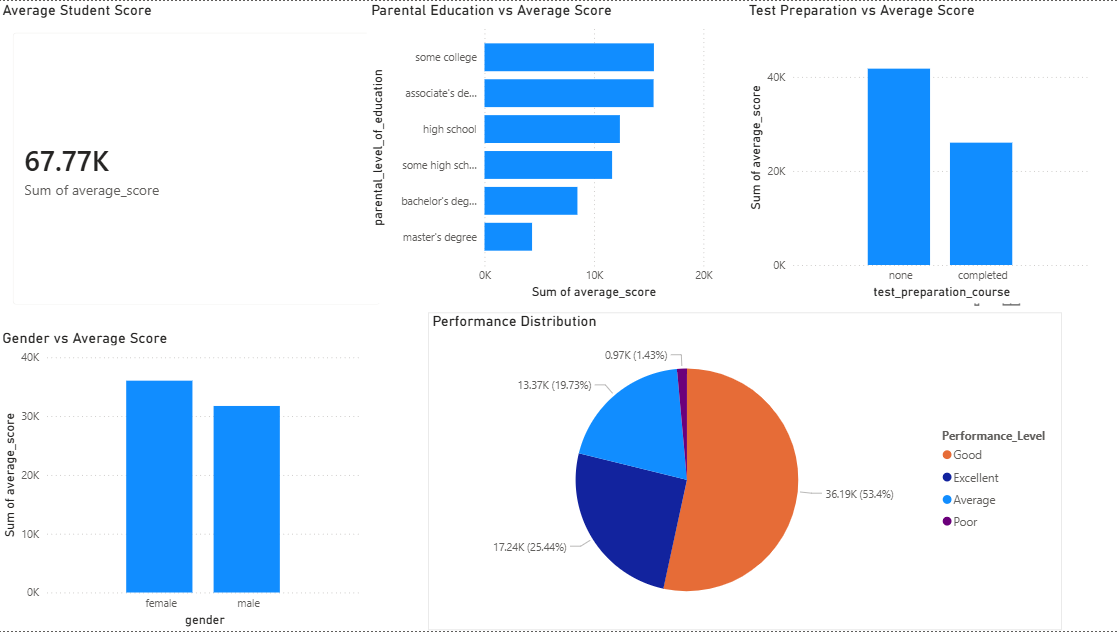

This screenshot's page, from the dashboard's own definition file:
{"tool":"powerbi","page":{"name":"Page 1","canvas":[1280,720],"ordinal":0},"visuals":[{"type":"clusteredColumnChart","title":"Gender vs Average Score","fields":{"Category":["cleaned_student_data.gender"],"Y":["Sum(cleaned_student_data.average_score)"]},"box":[0,374.3,421.4,345.7],"z":0},{"type":"cardVisual","title":"Average Student Score","fields":{"Data":["Sum(cleaned_student_data.average_score)"]},"box":[0,0,454.3,364.3],"z":1},{"type":"pieChart","title":"Performance Distribution","fields":{"Category":["cleaned_student_data.Performance_Level"],"Y":["Sum(cleaned_student_data.average_score)"]},"box":[491.4,355.7,724.3,364.3],"z":2},{"type":"clusteredBarChart","title":"Parental Education vs Average Score","fields":{"Category":["cleaned_student_data.parental_level_of_education"],"Y":["Sum(cleaned_student_data.average_score)"]},"box":[421.4,0,400,345.7],"z":3},{"type":"clusteredColumnChart","title":"Test Preparation vs Average Score","fields":{"Category":["cleaned_student_data.test_preparation_course"],"Y":["Sum(cleaned_student_data.average_score)"]},"box":[852.9,0,400,345.7],"z":4}]}

Visuals, with their boxes in screenshot pixels (x1, y1, x2, y2), scaled from the page's 1280x720 canvas onto the 1117x632 screenshot:
"Gender vs Average Score" clusteredColumnChart: box(0, 329, 368, 631)
"Average Student Score" cardVisual: box(0, 0, 396, 320)
"Performance Distribution" pieChart: box(429, 312, 1061, 631)
"Parental Education vs Average Score" clusteredBarChart: box(368, 0, 717, 303)
"Test Preparation vs Average Score" clusteredColumnChart: box(744, 0, 1093, 303)
